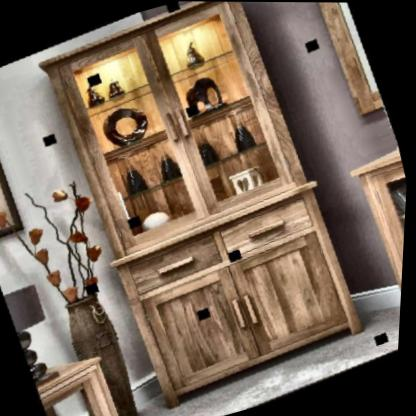Cupboard: (33, 0, 387, 404)
